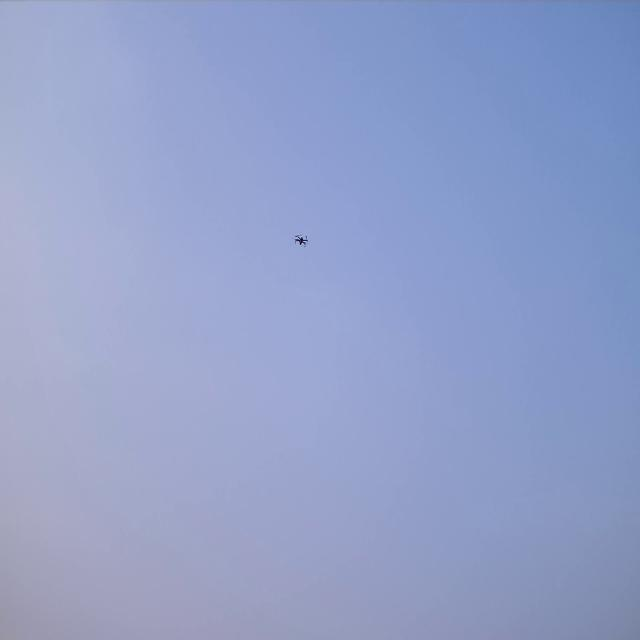UAV: (292, 234, 310, 248)
